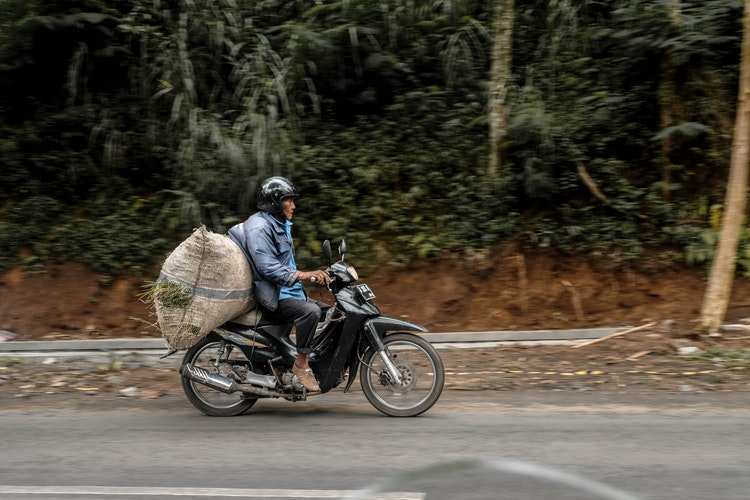helmet: (255, 178, 307, 220)
